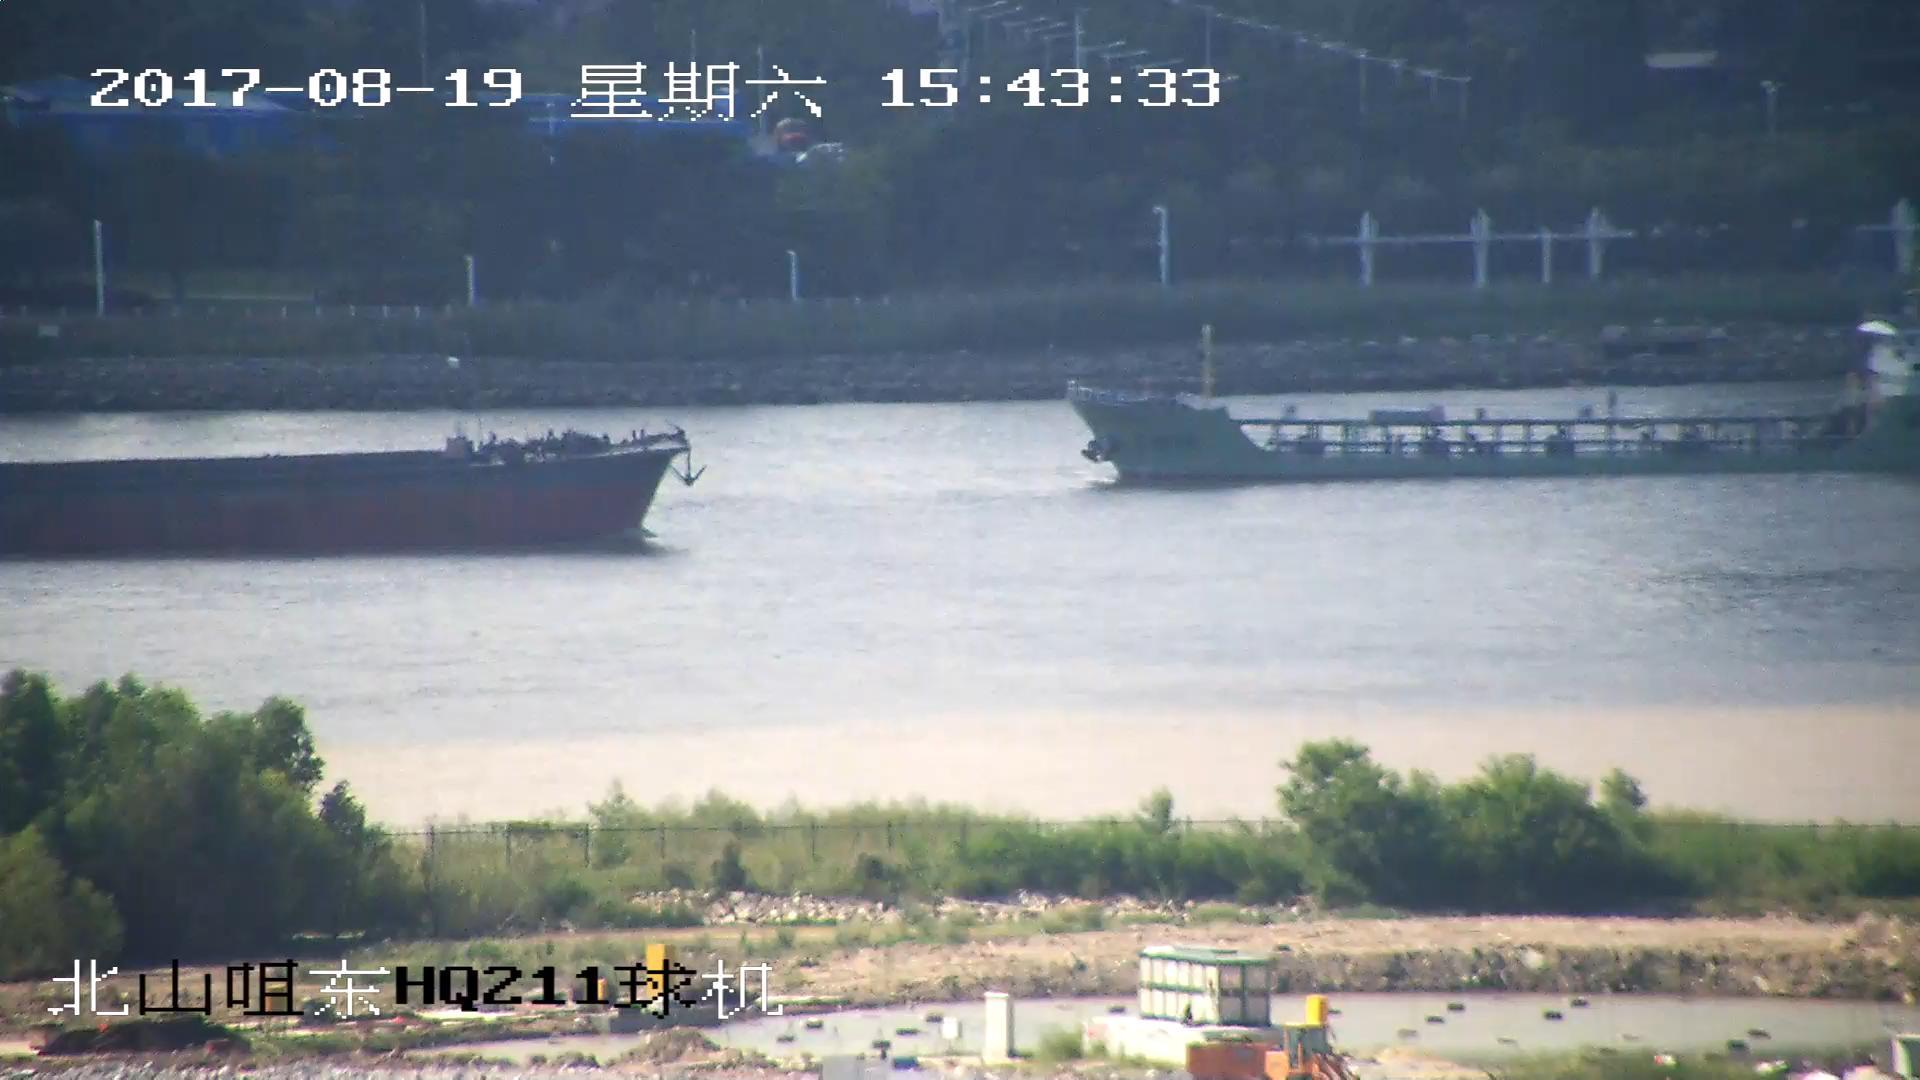Ship: (1068, 327, 1920, 483), (18, 429, 686, 563)
